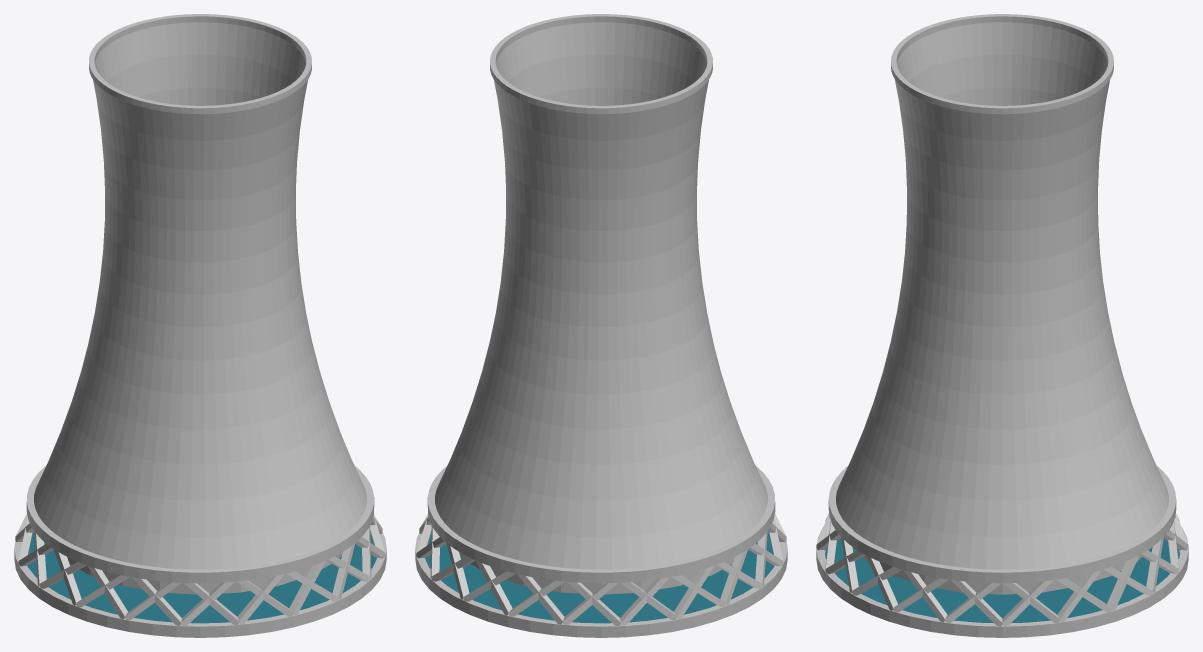
The model's file is body.obj.
3 renders of one model, left to right at view 1: azimuth 30°, elevation 25°; view 2: azimuth 150°, elevation 25°; view 3: azimuth 270°, elevation 25°, orthographic.
Size of the model in its own units: 23.91 by 35.27 by 23.91.
